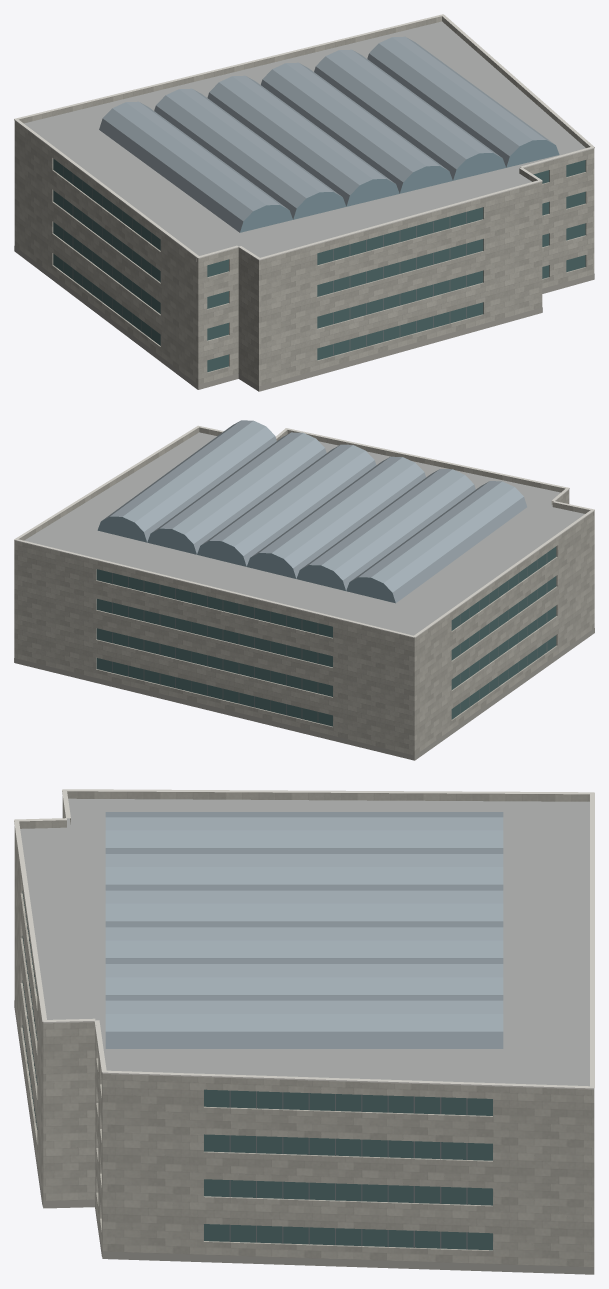
3 renders of one model, top to bottom at view 1: azimuth 30°, elevation 25°; view 2: azimuth 150°, elevation 25°; view 3: azimuth 270°, elevation 25°, orthographic. The views are drawn at different scales.
Parts seen in each view (by area): view 1: gym__wall, gym__vaultRoof, gym__roof, gym__glass, gym__parapet, gym__vaultEnd, gym__trim, gym__base, gym__frame; view 2: gym__wall, gym__vaultRoof, gym__roof, gym__glass, gym__parapet, gym__vaultEnd, gym__trim, gym__base, gym__frame; view 3: gym__vaultRoof, gym__wall, gym__roof, gym__glass, gym__parapet, gym__trim, gym__base, gym__frame.
Boxes of the visible parts, <box> form: gym__wall: <box>14,125,594,391</box>; gym__vaultRoof: <box>99,36,554,232</box>; gym__roof: <box>24,21,585,257</box>; gym__glass: <box>53,158,585,372</box>; gym__parapet: <box>14,16,594,264</box>; gym__vaultEnd: <box>240,140,559,232</box>; gym__trim: <box>14,14,594,260</box>; gym__base: <box>14,246,594,391</box>; gym__frame: <box>63,166,466,355</box>; gym__wall: <box>14,493,594,760</box>; gym__vaultRoof: <box>102,420,526,602</box>; gym__roof: <box>24,432,584,635</box>; gym__glass: <box>96,546,556,726</box>; gym__parapet: <box>14,427,594,641</box>; gym__vaultEnd: <box>97,516,395,603</box>; gym__trim: <box>14,425,594,637</box>; gym__base: <box>14,628,594,760</box>; gym__frame: <box>112,553,547,722</box>; gym__vaultRoof: <box>105,812,503,1048</box>; gym__wall: <box>14,799,594,1274</box>; gym__roof: <box>20,798,589,1086</box>; gym__glass: <box>22,891,492,1250</box>; gym__parapet: <box>19,791,594,1095</box>; gym__trim: <box>14,789,594,1089</box>; gym__base: <box>14,1000,593,1274</box>; gym__frame: <box>25,912,467,1249</box>.
Bounding box in the file's own units: 51.62 × 17.4 × 42.36.
Materials: 9 (2 with a texture image).
